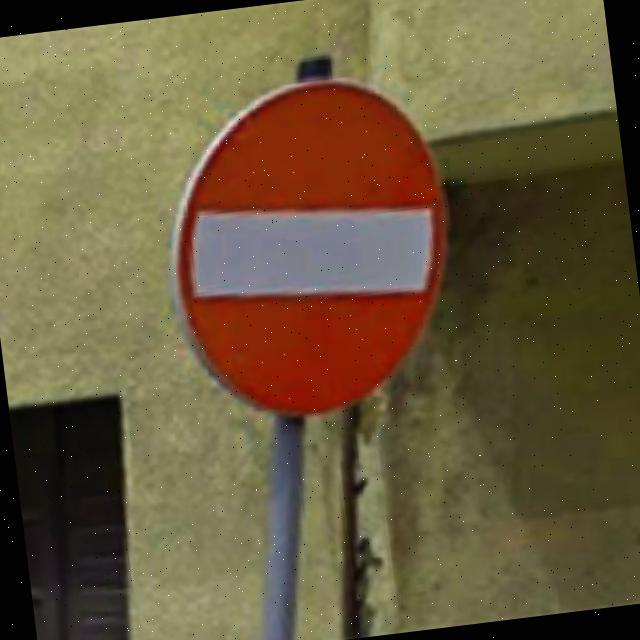Zakaz wjazdu: (150, 64, 470, 431)
